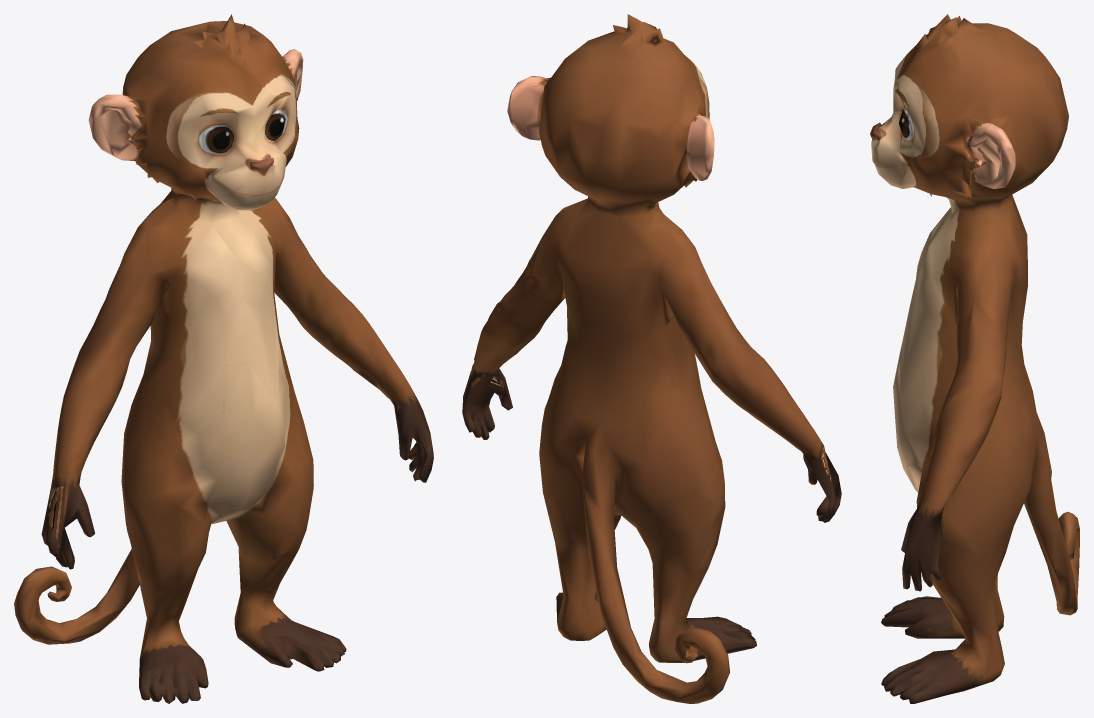
File: monkey-arms.glb
3 renders of one model, left to right at view 1: azimuth 30°, elevation 25°; view 2: azimuth 150°, elevation 25°; view 3: azimuth 270°, elevation 25°, orthographic. The views are drawn at different scales.
Visible parts, largest first — view 1: monkey; view 2: monkey; view 3: monkey.
Boxes of the visible parts, x1,y1,x2,y2 form: monkey: (14,14,433,703); monkey: (462,14,841,703); monkey: (870,14,1079,703).
Bounding box in the file's own units: 1.18 × 1.9 × 0.5606.
Materials: 1 (1 with a texture image).
